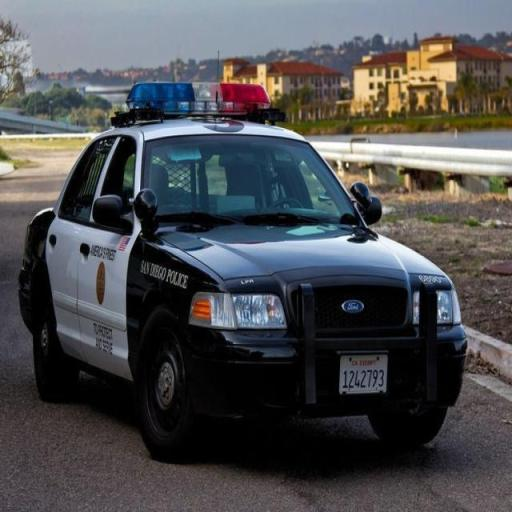Ambulance: (20, 78, 468, 470)
